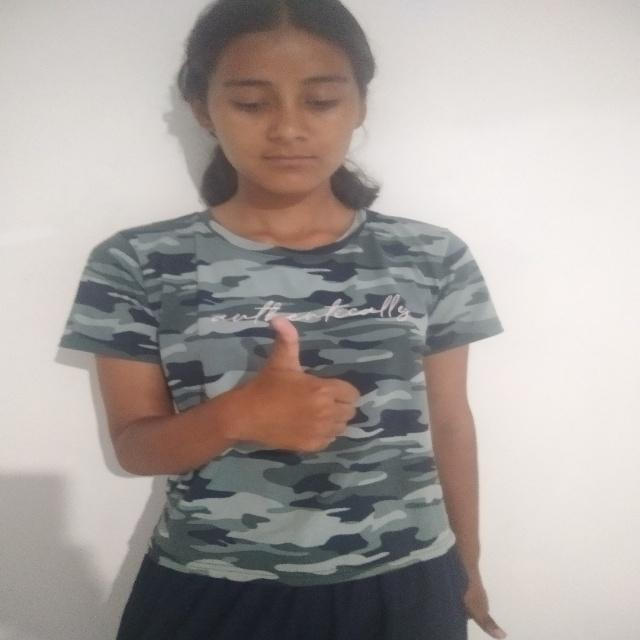Thumbs Up: (196, 315, 366, 465)
